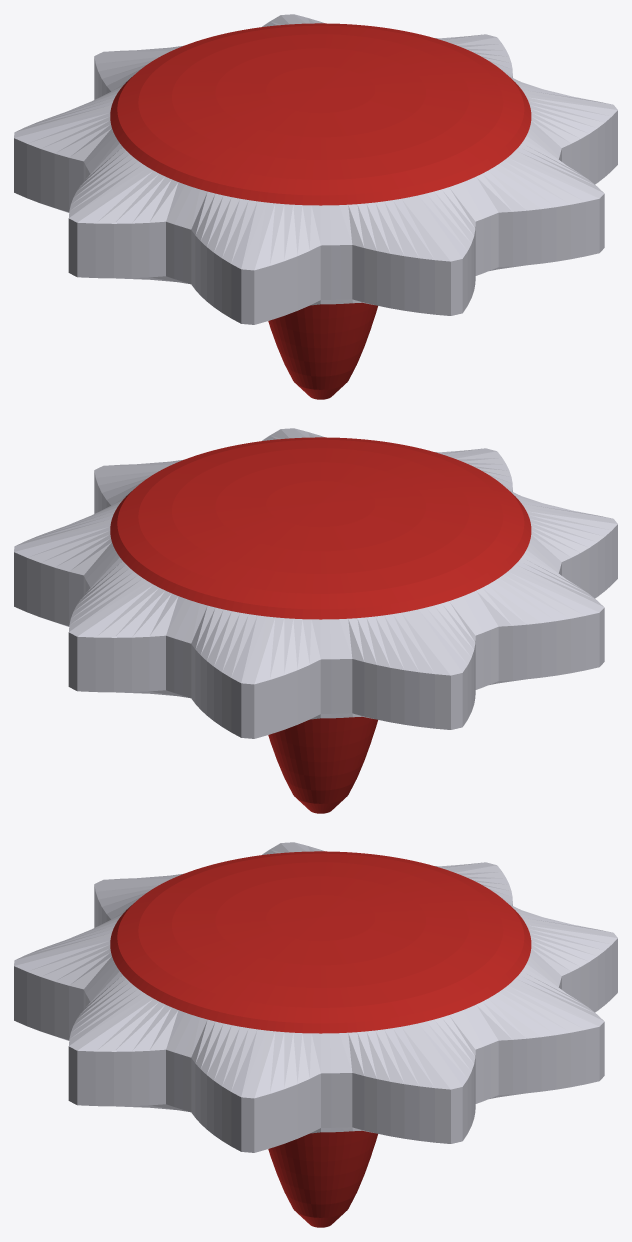
File: top_attack.obj
3 views of the same model, one above another, from view 1: azimuth 30°, elevation 25°; view 2: azimuth 150°, elevation 25°; view 3: azimuth 270°, elevation 25° (orthographic).
Parts seen in each view (by area): view 1: Attack; view 2: Attack; view 3: Attack.
Part boxes in pixels (bbox=[...]): Attack: bbox=[14, 14, 617, 399]; Attack: bbox=[14, 428, 617, 813]; Attack: bbox=[14, 842, 617, 1227].
Size of the model in its own units: 0.0484 by 0.0269 by 0.0482.
